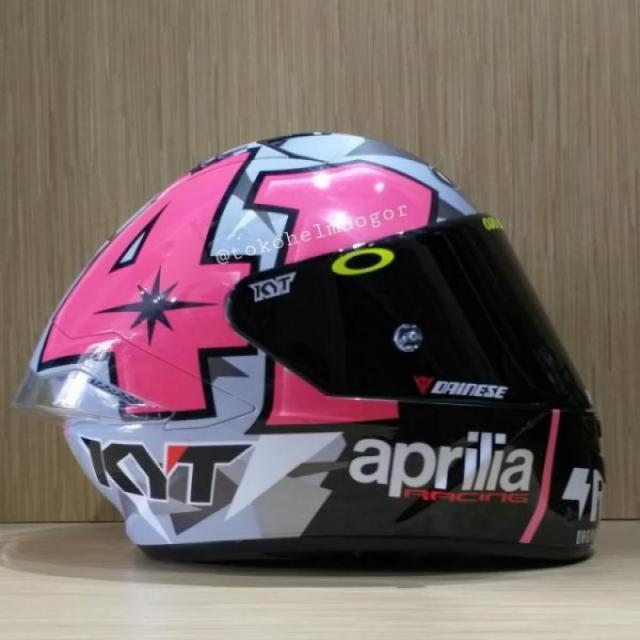Helmet: (8, 122, 614, 574)
